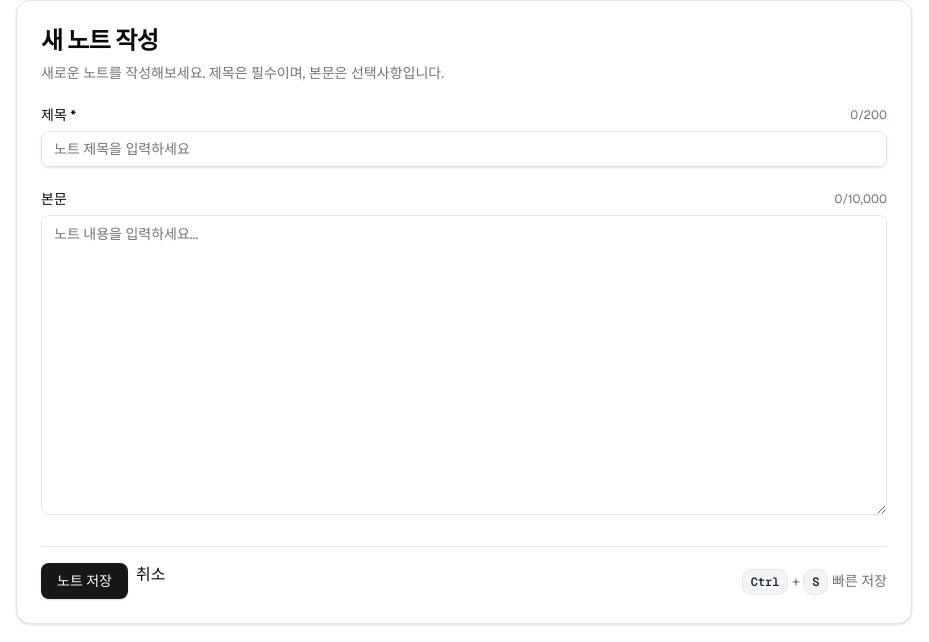
Test: NoteForm › shows loading state during submission
Type "테스트 제목" into the field labelled "제목 *" at {"x": 464, "y": 149}, box [41, 131, 887, 167]
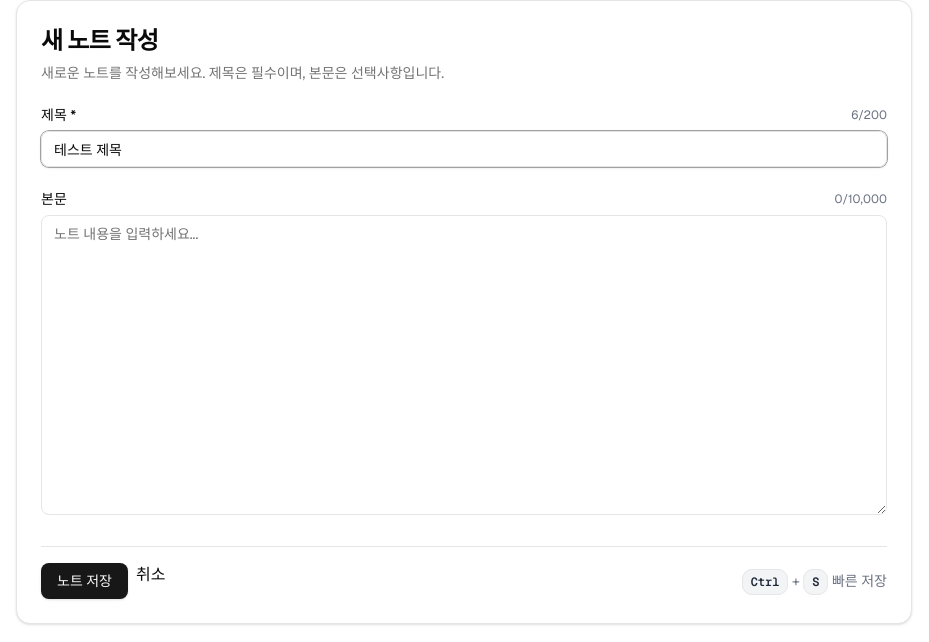
Click the button "노트 저장" at {"x": 84, "y": 581}, box [41, 563, 128, 599]
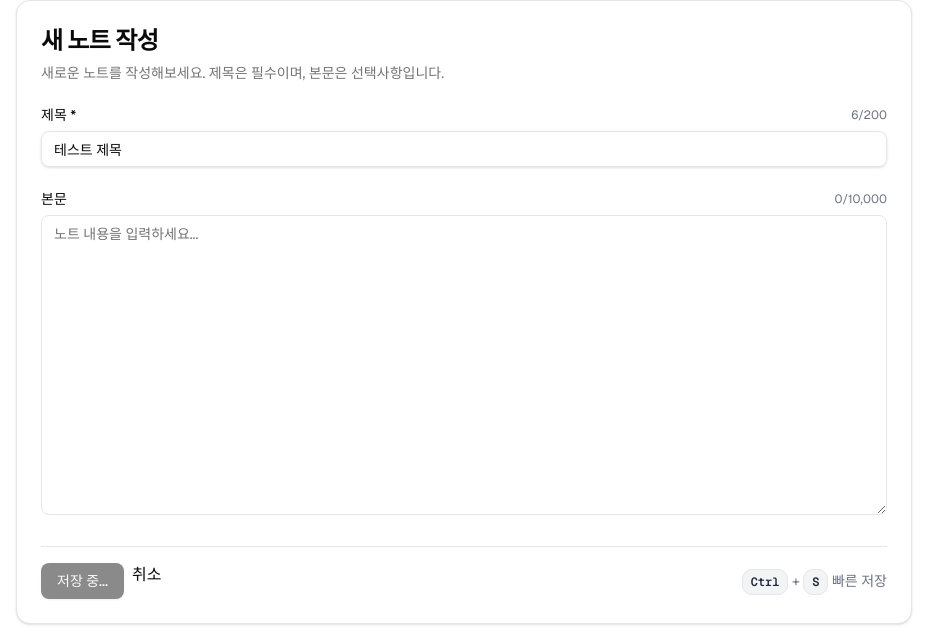
expect the button "저장 중..." is disabled: met, box [41, 563, 124, 599]
